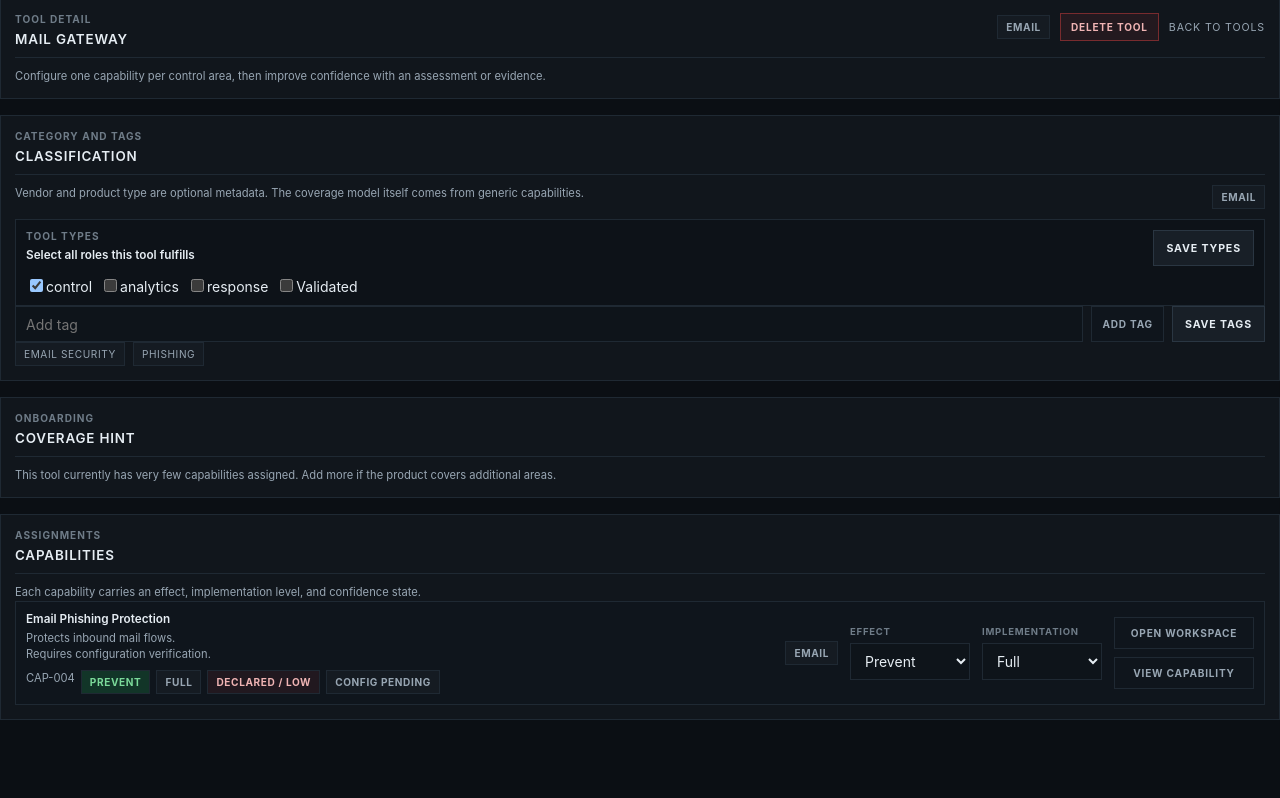
Test: ToolDetailPage › shows confidence and opens the assessment workspace
The image size is (1280, 798).
Expected: the text "declared / low" is shown, 208,670 -> 320,694
Click the button "Open workspace": (1184,633) 1114,617 -> 1254,649
(page scrolled)
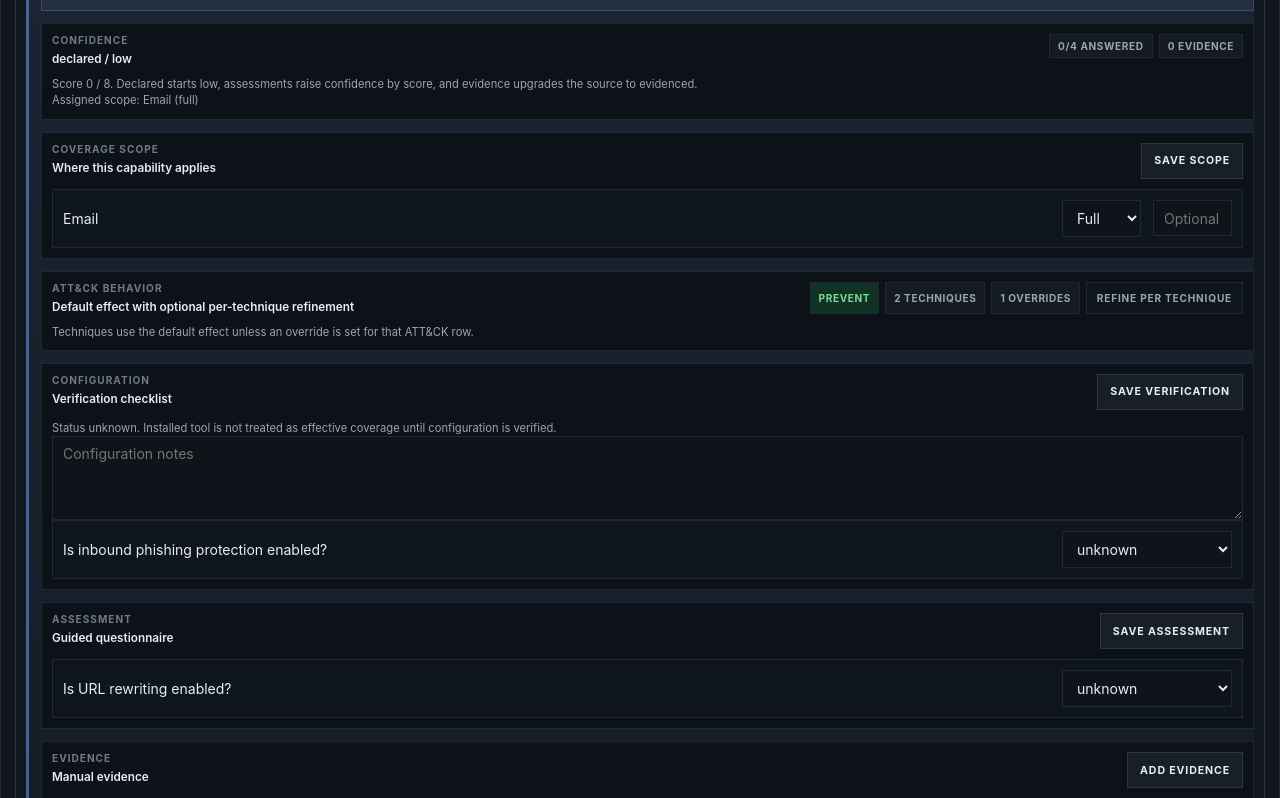
Now the text "Guided questionnaire" is shown, box 52,631 -> 174,645
Now the text "Is URL rewriting enabled?" is shown, box 63,680 -> 232,697
Now the text "Verification checklist" is shown, box 52,392 -> 172,406
